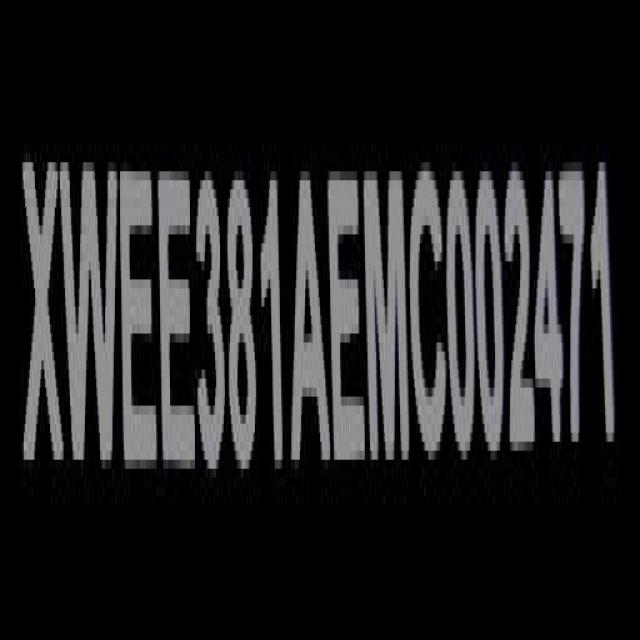0: (474, 159, 503, 465), (448, 156, 476, 470)
1: (589, 152, 622, 460), (258, 167, 285, 477)
2: (506, 166, 536, 466)
3: (196, 166, 225, 483)
4: (534, 160, 563, 461)
7: (562, 153, 586, 460)
8: (228, 169, 256, 487)
A: (292, 171, 332, 476)
C: (409, 165, 448, 473)
E: (122, 156, 160, 487), (160, 157, 196, 482), (331, 167, 365, 477)
M: (368, 162, 412, 472)
W: (64, 147, 120, 483)
X: (22, 143, 64, 485)
